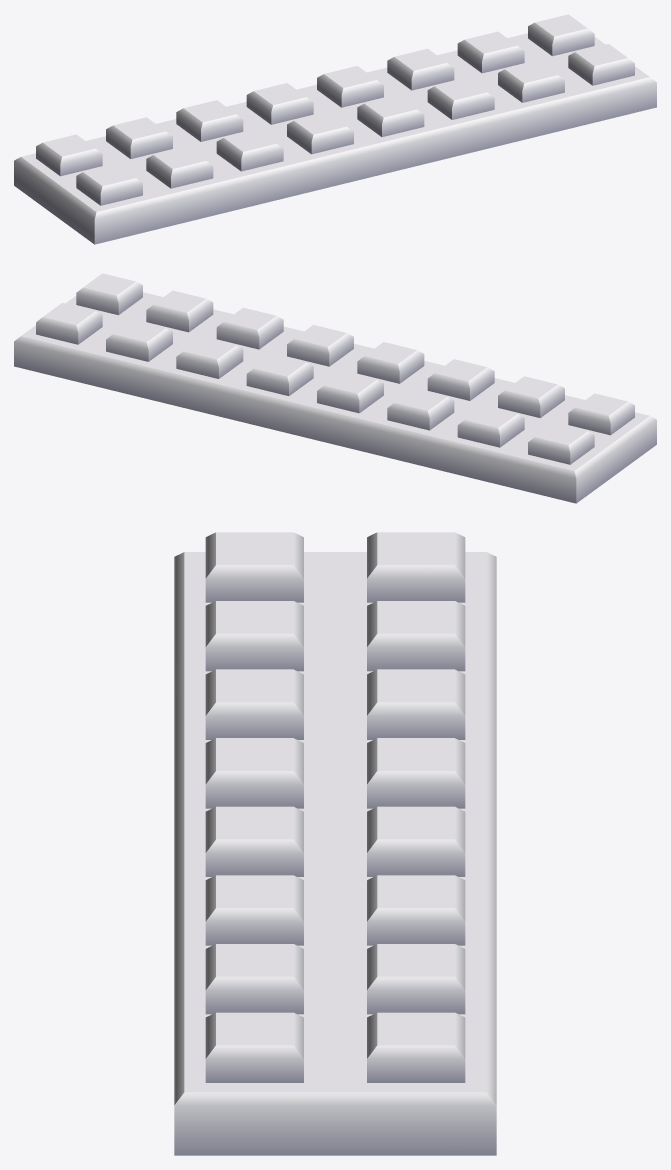
The model's file is kenney-brick-square-hq-plate-2-x-8.glb.
3 renders of one model, top to bottom at view 1: azimuth 30°, elevation 25°; view 2: azimuth 150°, elevation 25°; view 3: azimuth 270°, elevation 25°, orthographic. The views are drawn at different scales.
Parts seen in each view (by area): view 1: square-hq-plate-2x8; view 2: square-hq-plate-2x8; view 3: square-hq-plate-2x8.
Part boxes in pixels (x1,y1,x2,y2): square-hq-plate-2x8: (14,14,656,244); square-hq-plate-2x8: (14,273,656,503); square-hq-plate-2x8: (174,532,496,1155).
Size of the model in its own units: 0.636 by 0.05 by 0.158.
1 material, 1 textured.
